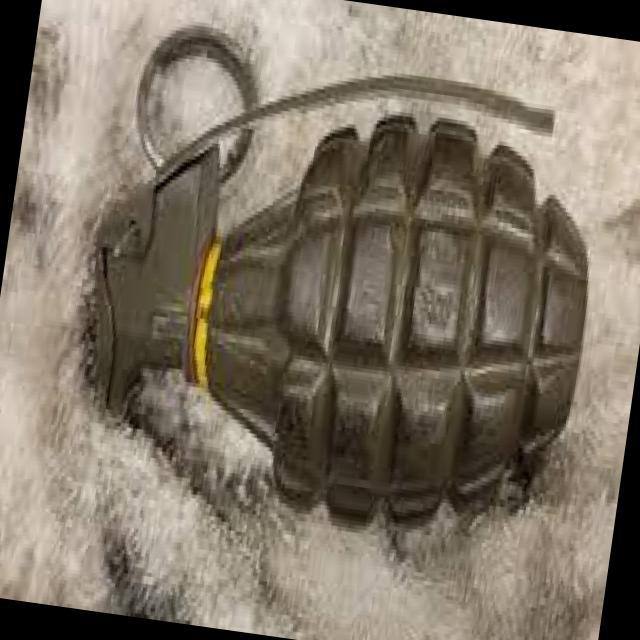grenade: (64, 15, 621, 548)
